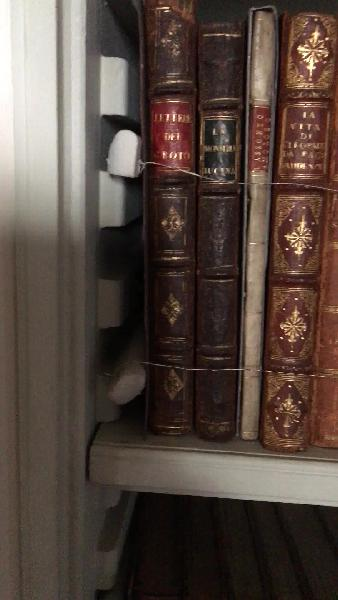Aa6-1: (130, 2, 200, 438)
Aa6-2: (194, 14, 241, 438)
Aa6-3: (241, 7, 277, 446)
Aa6-4: (260, 9, 335, 458)
